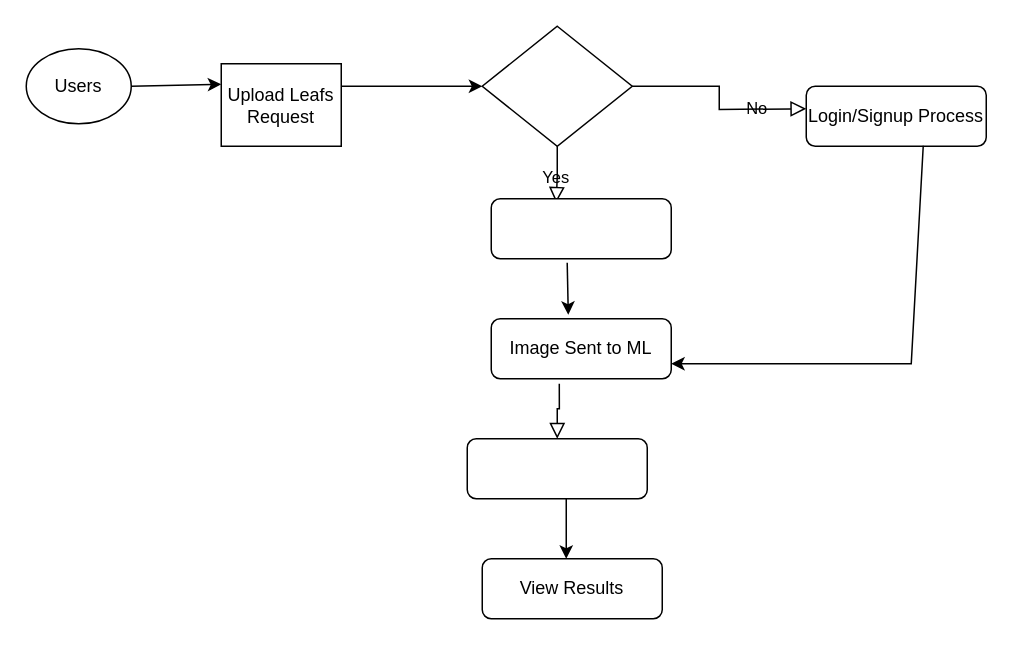
This 1013x645 diagram has some shape labels left out. Each missing label, with the centre of its shape:
"Authentication Check" goes at point 556,85.
"ML Prediction" goes at point 556,468.
"Upload Leaf Image" goes at point 580,228.
